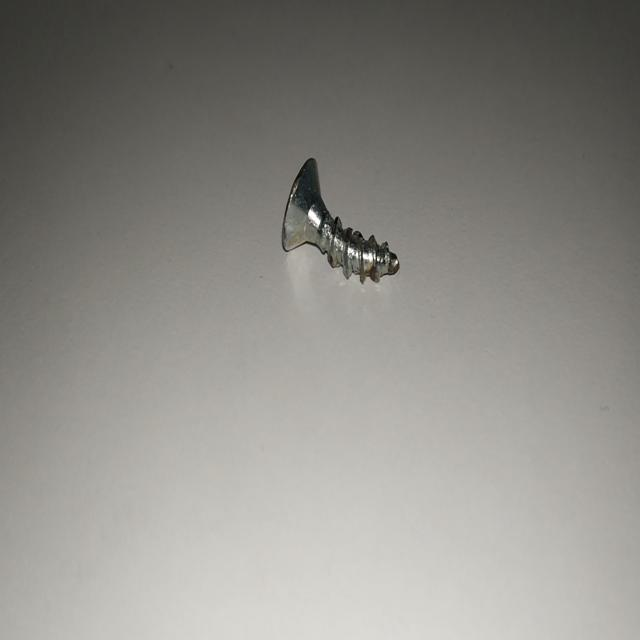Dry Waste: (267, 152, 415, 295)
